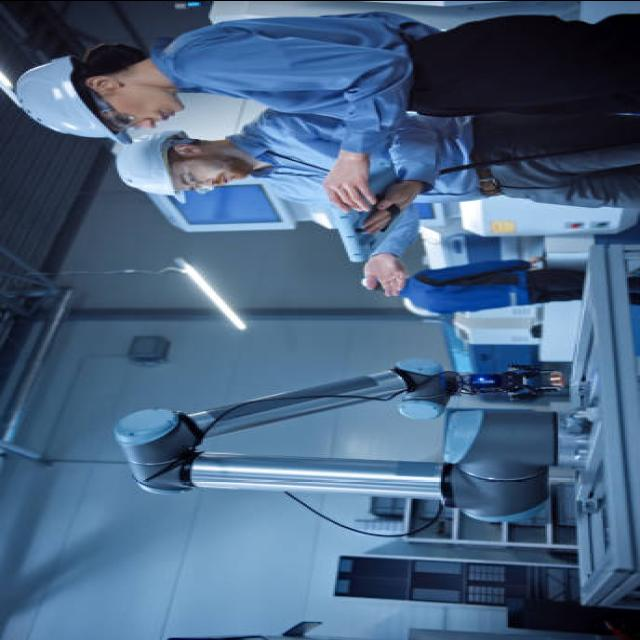Robotic-arm: (106, 358, 566, 528)
